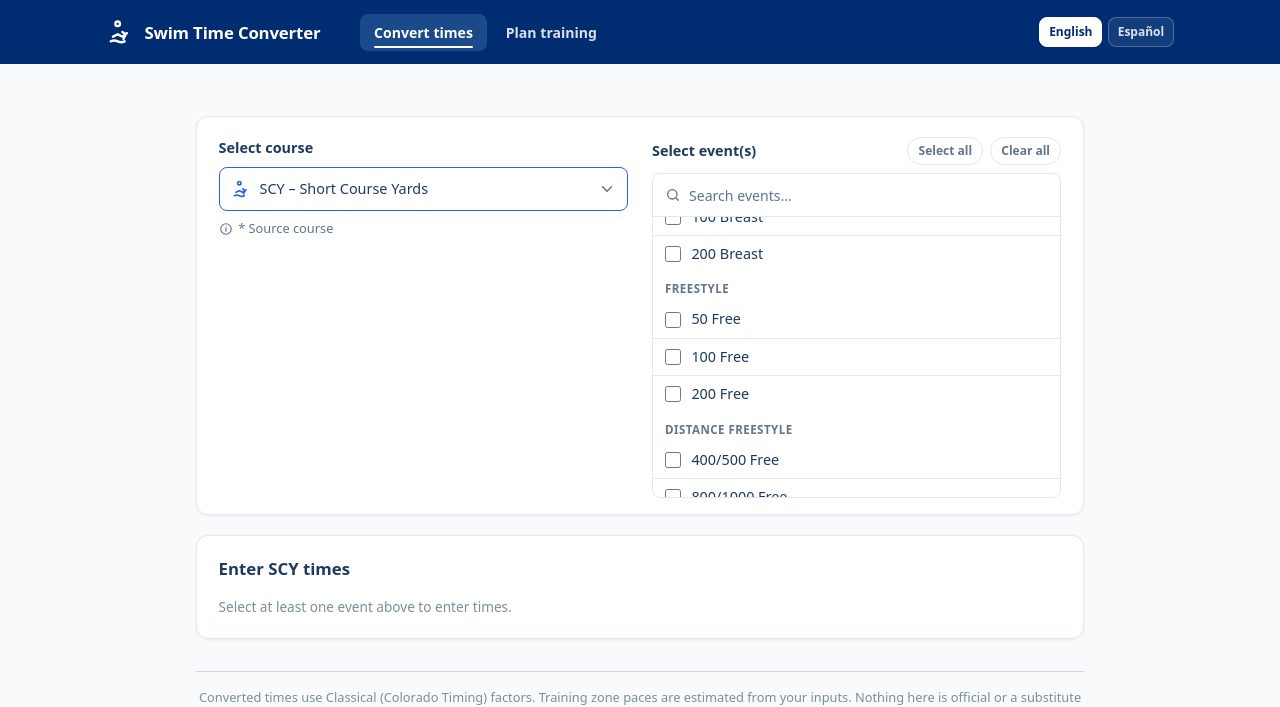
Test: App manual conversion flow › shows live conversion results after entering a valid time
(page scrolled)
Click the checkbox labelled "100 Free" at (673, 357), box [665,349,681,365]
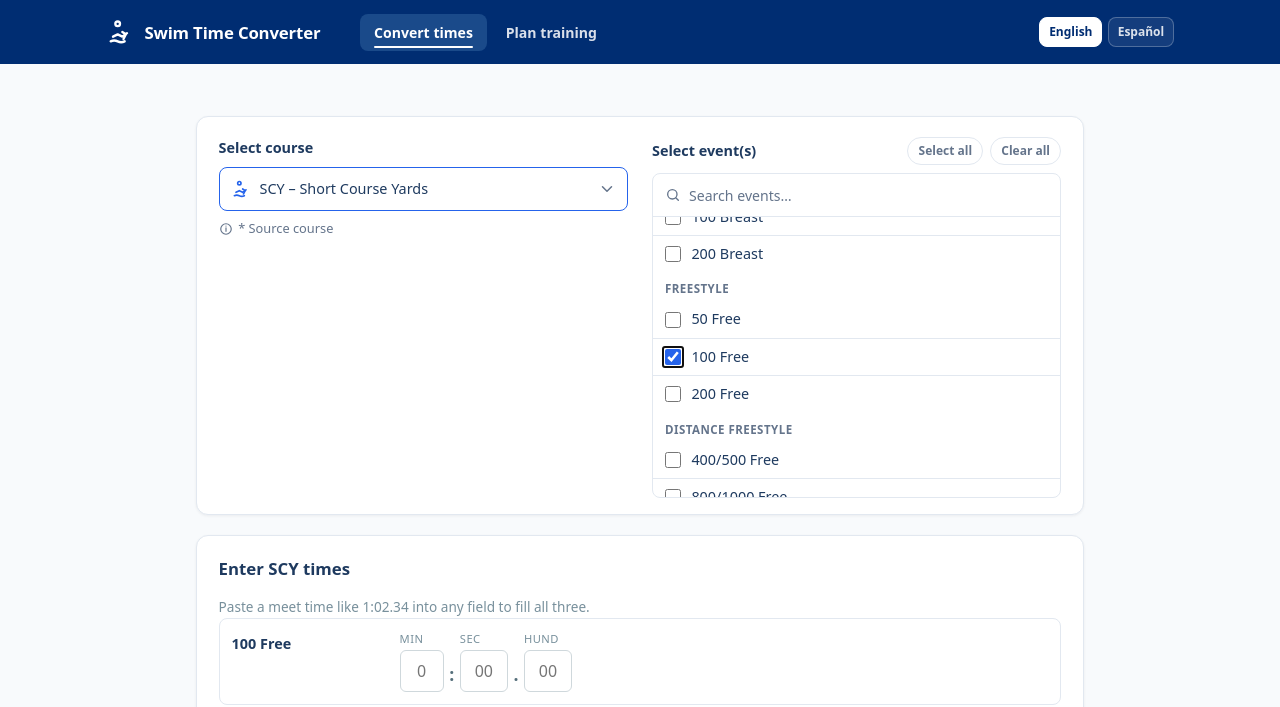
Type "1" into the field labelled "Min" at (422, 671), box [400,650,444,692]
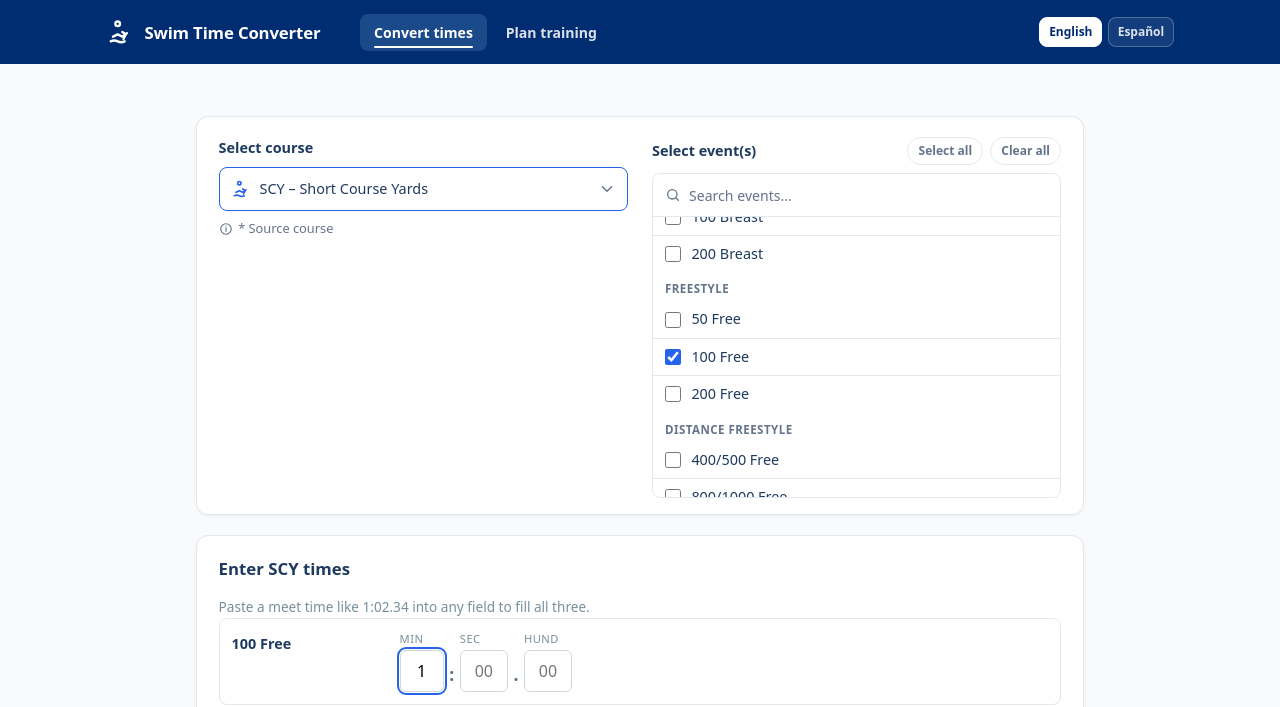
Type "02" into the field labelled "Sec" at (484, 671), box [460,650,508,692]
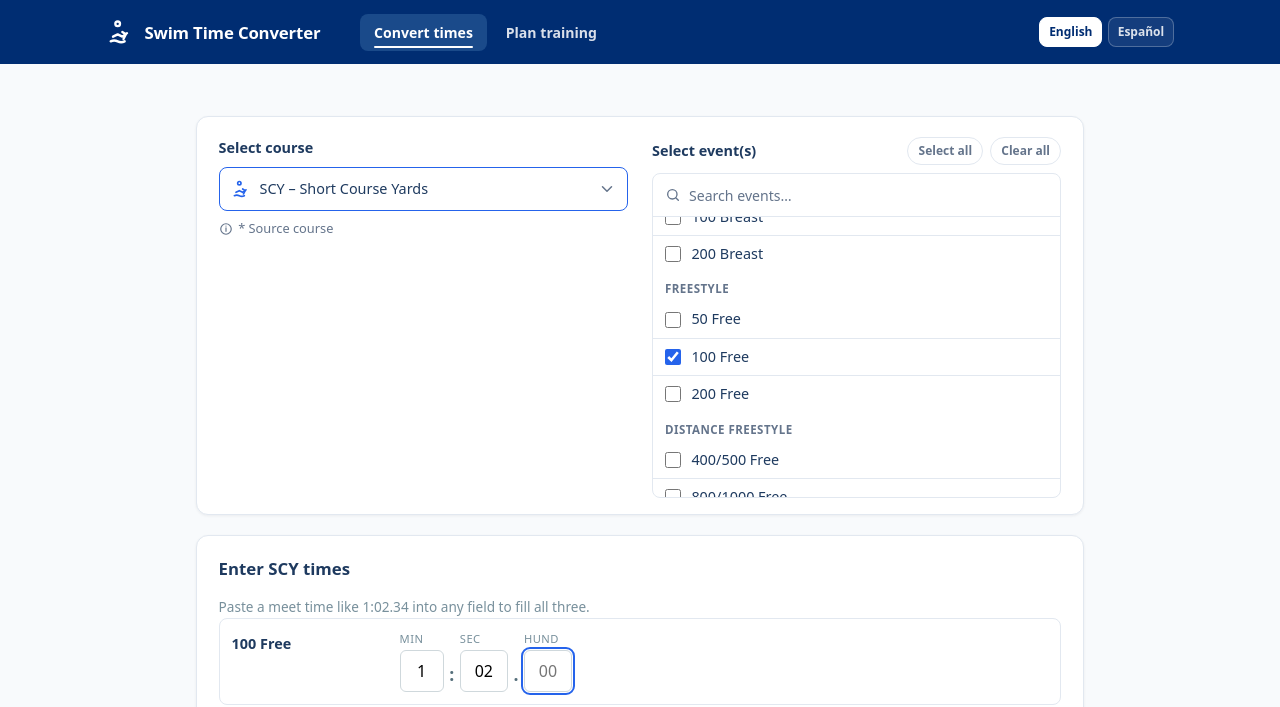
Type "34" into the field labelled "Hund" at (548, 671), box [524,650,572,692]
(page scrolled)
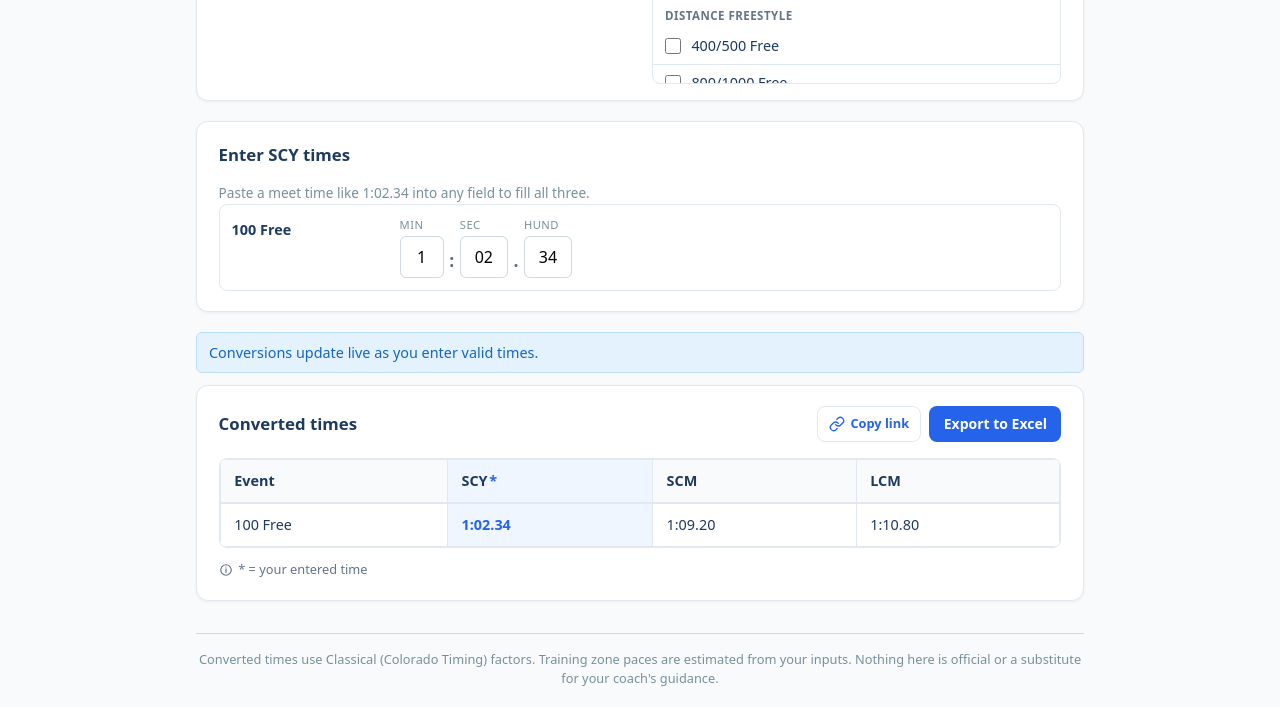
Now the heading "Converted times" is shown, box [219,411,357,436]
Now the text "1:10.80" is shown, box [856,503,1060,547]
